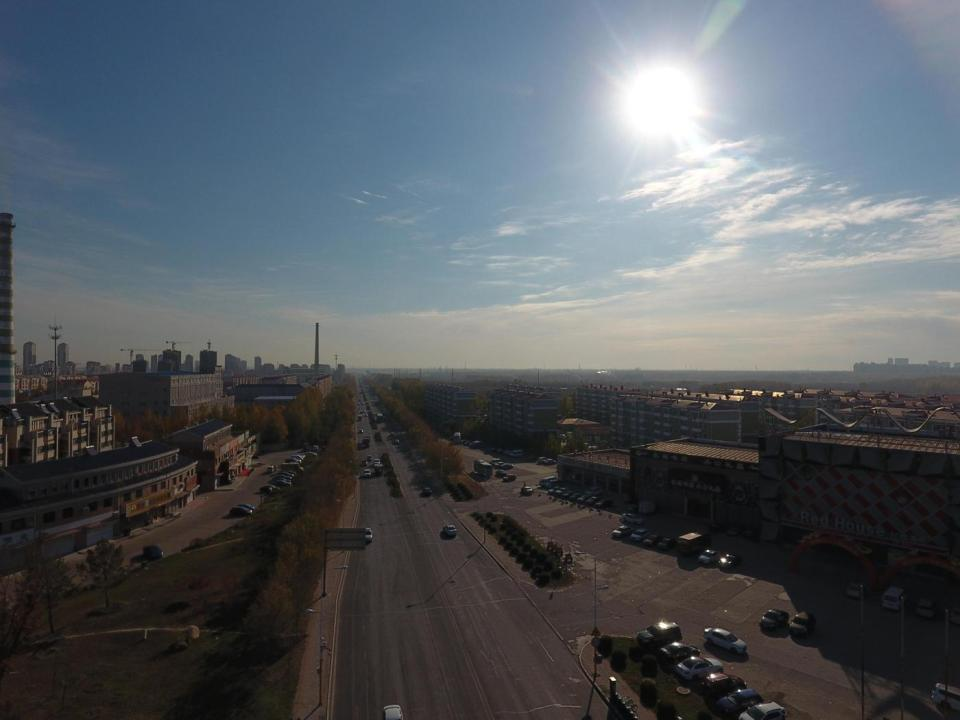bus: (676, 531, 711, 557), (474, 459, 492, 477), (281, 462, 303, 473), (453, 431, 461, 443)
car: (675, 656, 723, 682), (717, 688, 765, 714), (636, 621, 682, 648), (702, 627, 747, 654), (738, 701, 785, 720), (704, 673, 746, 694), (660, 643, 700, 663), (759, 608, 789, 632), (789, 612, 815, 637), (916, 594, 941, 618), (882, 588, 906, 610), (719, 553, 742, 569), (382, 704, 404, 720), (698, 549, 720, 564), (846, 583, 865, 599), (611, 525, 634, 538), (144, 545, 163, 560), (630, 528, 648, 542), (642, 534, 662, 546), (744, 526, 760, 541), (621, 513, 642, 524), (709, 520, 726, 533), (229, 507, 252, 516), (658, 538, 676, 549), (728, 524, 745, 535), (584, 487, 602, 497), (269, 480, 291, 488), (442, 525, 457, 536), (237, 503, 255, 512), (361, 528, 372, 542), (562, 489, 576, 500), (595, 500, 612, 509), (259, 484, 280, 491), (284, 457, 302, 465), (586, 496, 602, 505), (555, 486, 569, 496), (627, 504, 644, 512), (272, 475, 292, 481), (548, 486, 563, 494), (276, 472, 293, 479), (471, 441, 485, 449), (570, 492, 583, 500), (577, 495, 590, 503), (273, 478, 290, 484), (500, 463, 513, 470), (503, 474, 516, 481), (281, 470, 296, 476), (289, 454, 303, 460), (293, 453, 305, 460), (303, 452, 316, 458), (521, 487, 532, 494), (496, 470, 507, 476), (528, 455, 539, 461), (545, 459, 556, 465), (292, 454, 305, 459), (422, 488, 431, 495), (363, 470, 370, 478), (463, 441, 474, 446), (537, 458, 548, 463), (496, 448, 505, 454), (494, 461, 503, 467), (374, 459, 380, 466), (461, 439, 469, 444), (506, 451, 514, 456), (361, 460, 367, 466), (502, 450, 511, 454), (492, 448, 500, 452), (248, 456, 258, 459), (313, 445, 318, 451), (321, 446, 326, 452), (367, 456, 372, 461), (358, 430, 364, 434), (394, 440, 400, 444), (390, 432, 395, 436), (450, 436, 456, 439), (362, 409, 365, 412), (358, 399, 360, 401), (358, 402, 360, 404), (361, 402, 363, 404), (365, 414, 367, 416), (370, 395, 372, 397)
truck: (639, 502, 659, 516), (374, 464, 382, 477), (362, 436, 370, 448), (376, 413, 382, 424), (303, 443, 310, 452), (358, 415, 362, 420), (359, 411, 362, 414)
van: (932, 684, 960, 711), (538, 476, 556, 487), (545, 480, 564, 490), (510, 450, 523, 457), (489, 458, 500, 466), (268, 466, 274, 472)
